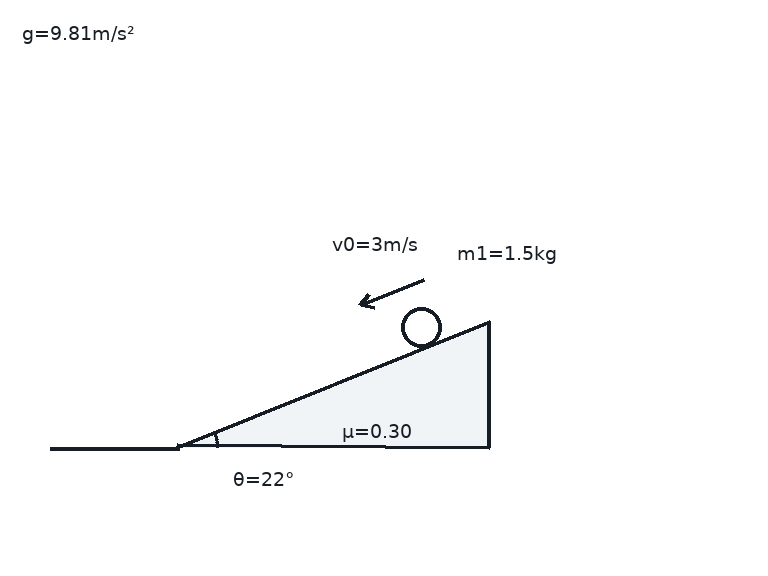ball: (399, 305, 443, 349)
ramp: (175, 319, 491, 449)
